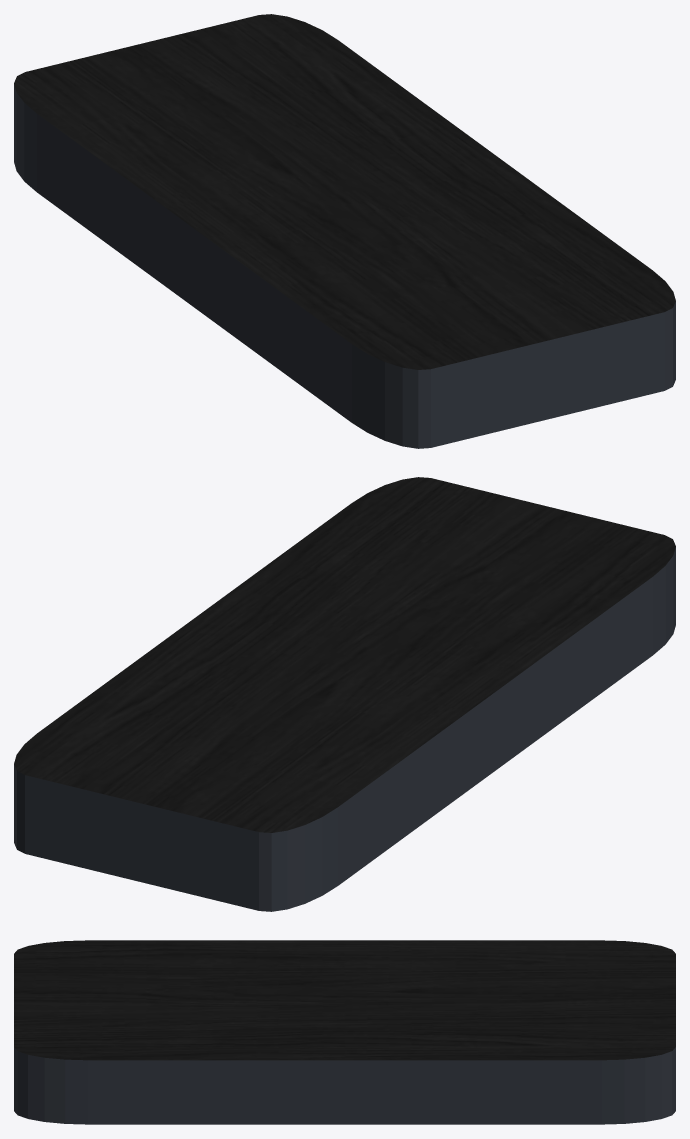
The model's file is WallCell.fbx.
3 renders of one model, top to bottom at view 1: azimuth 30°, elevation 25°; view 2: azimuth 150°, elevation 25°; view 3: azimuth 270°, elevation 25°, orthographic. The views are drawn at different scales.
Parts seen in each view (by area): view 1: Wall Cell; view 2: Wall Cell; view 3: Wall Cell.
Part boxes in pixels (box(x1,y1,x2,y2)): Wall Cell: box(14, 14, 675, 448); Wall Cell: box(14, 477, 675, 911); Wall Cell: box(14, 940, 675, 1124).
Bounding box in the file's own units: 150 × 37.5 × 350.
2 materials, 1 textured.
